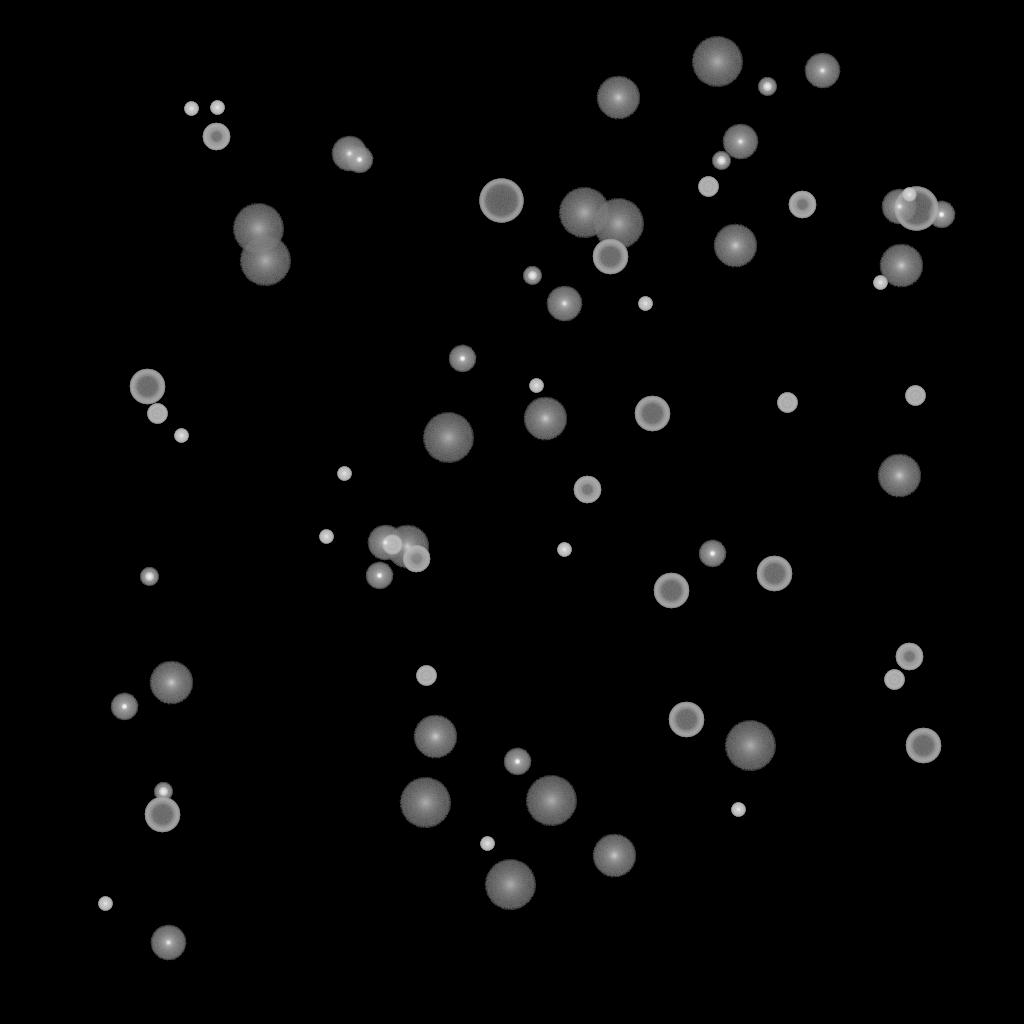depth:-10: (365, 562, 393, 590), (503, 748, 531, 776), (345, 146, 373, 174), (927, 201, 955, 229), (698, 540, 726, 568), (110, 693, 138, 721), (448, 345, 476, 373)
depth:-20: (758, 78, 776, 96), (712, 152, 730, 170), (523, 267, 541, 285), (154, 783, 172, 801), (140, 568, 158, 586)
depth:-30: (873, 276, 887, 290), (319, 530, 333, 544), (731, 803, 745, 817), (480, 837, 494, 851), (557, 543, 571, 557), (638, 297, 652, 311), (98, 897, 112, 911), (902, 188, 916, 202), (174, 429, 188, 443), (529, 379, 543, 393), (184, 102, 198, 116), (210, 101, 224, 115), (337, 467, 351, 481)
depth:-40: (382, 535, 402, 555), (905, 386, 925, 406), (884, 670, 904, 690), (777, 393, 797, 413), (416, 666, 436, 686), (698, 177, 718, 197), (147, 404, 167, 424)
depth:-50: (202, 123, 230, 151), (788, 191, 816, 219), (895, 643, 923, 671), (573, 476, 601, 504), (402, 545, 430, 573)
depth:-60: (756, 556, 792, 592), (144, 797, 180, 833), (129, 369, 165, 405), (592, 239, 628, 275), (668, 702, 704, 738), (653, 573, 689, 609), (905, 728, 941, 764), (634, 396, 670, 432)
depth:-70: (479, 179, 523, 223), (894, 187, 938, 231)
depth:0: (546, 286, 582, 322), (881, 189, 917, 225), (331, 136, 367, 172), (150, 925, 186, 961), (367, 525, 403, 561), (722, 124, 758, 160), (804, 53, 840, 89)
depth:10: (596, 76, 640, 120), (385, 525, 429, 569), (713, 224, 757, 268), (413, 715, 457, 759), (877, 454, 921, 498), (523, 397, 567, 441), (879, 244, 923, 288), (592, 834, 636, 878), (149, 661, 193, 705)
depth:20: (592, 199, 644, 249), (558, 188, 610, 238), (239, 236, 291, 286), (232, 204, 284, 254), (422, 413, 474, 463), (525, 776, 577, 826), (484, 860, 536, 910), (724, 721, 776, 771), (399, 778, 451, 828), (691, 37, 743, 87)
